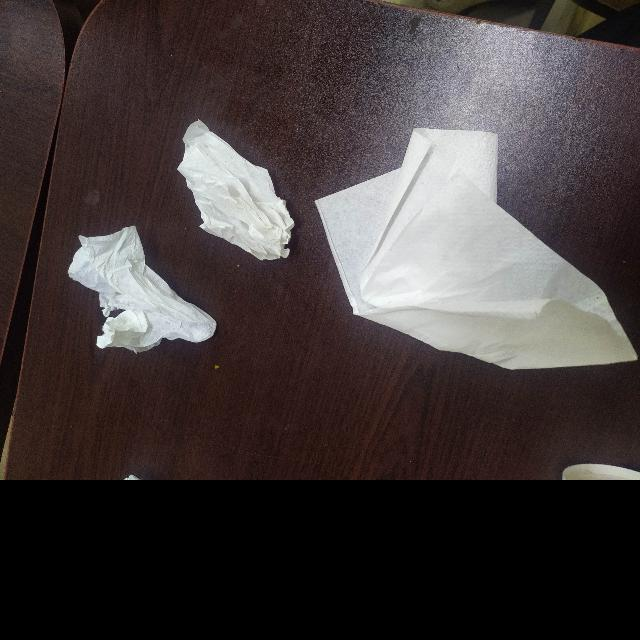kitchen paper: (315, 120, 640, 376), (169, 114, 300, 265), (68, 227, 222, 355)
